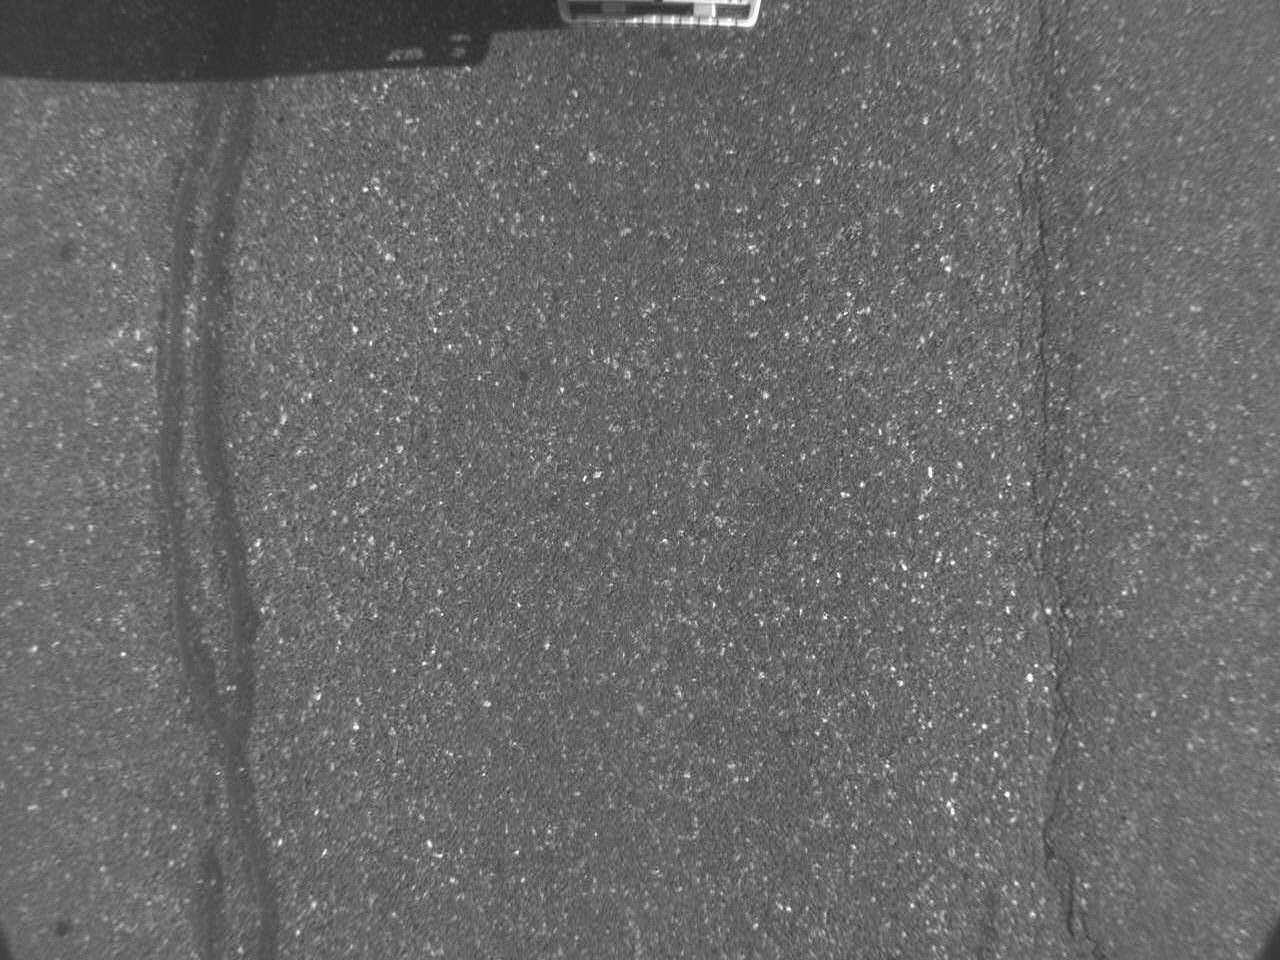sealed: (144, 10, 284, 948)
